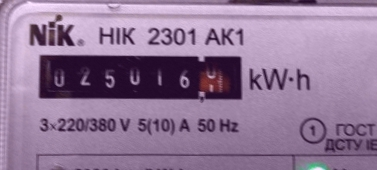0: (128, 63, 142, 86), (52, 66, 65, 88), (204, 59, 216, 79)
1: (153, 62, 164, 87), (206, 82, 214, 93)
2: (78, 63, 91, 86)
5: (103, 67, 114, 88)
6: (177, 66, 190, 91)
screen: (29, 44, 252, 108)
